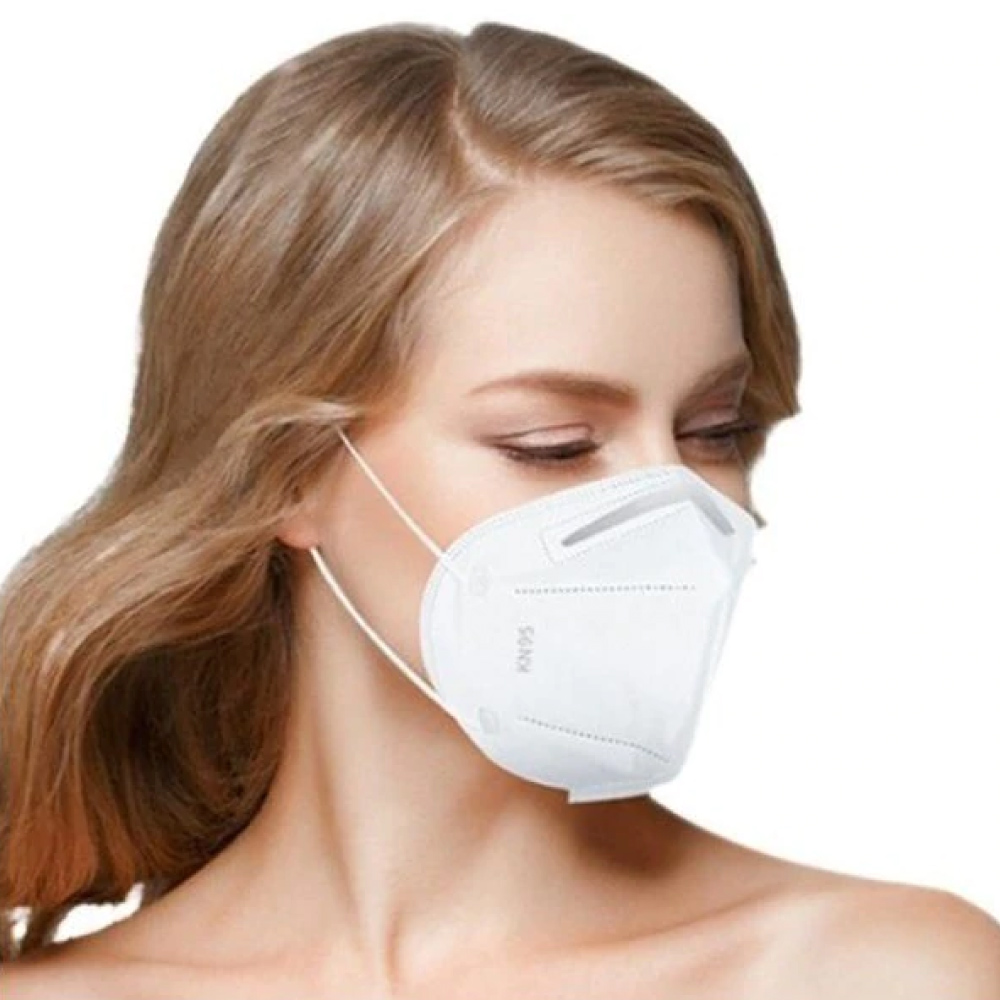barbijo: (217, 394, 767, 833)
